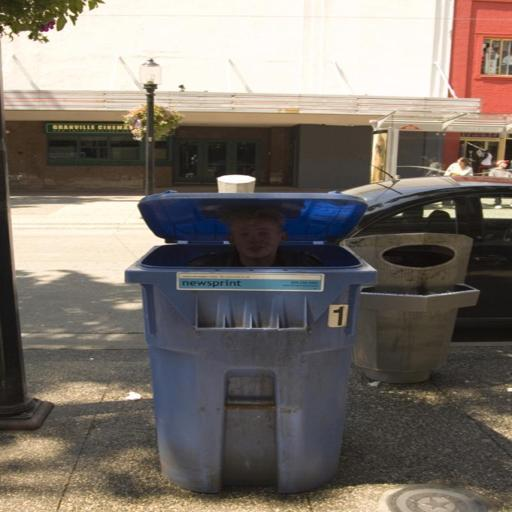trash-can: (116, 186, 386, 502)
